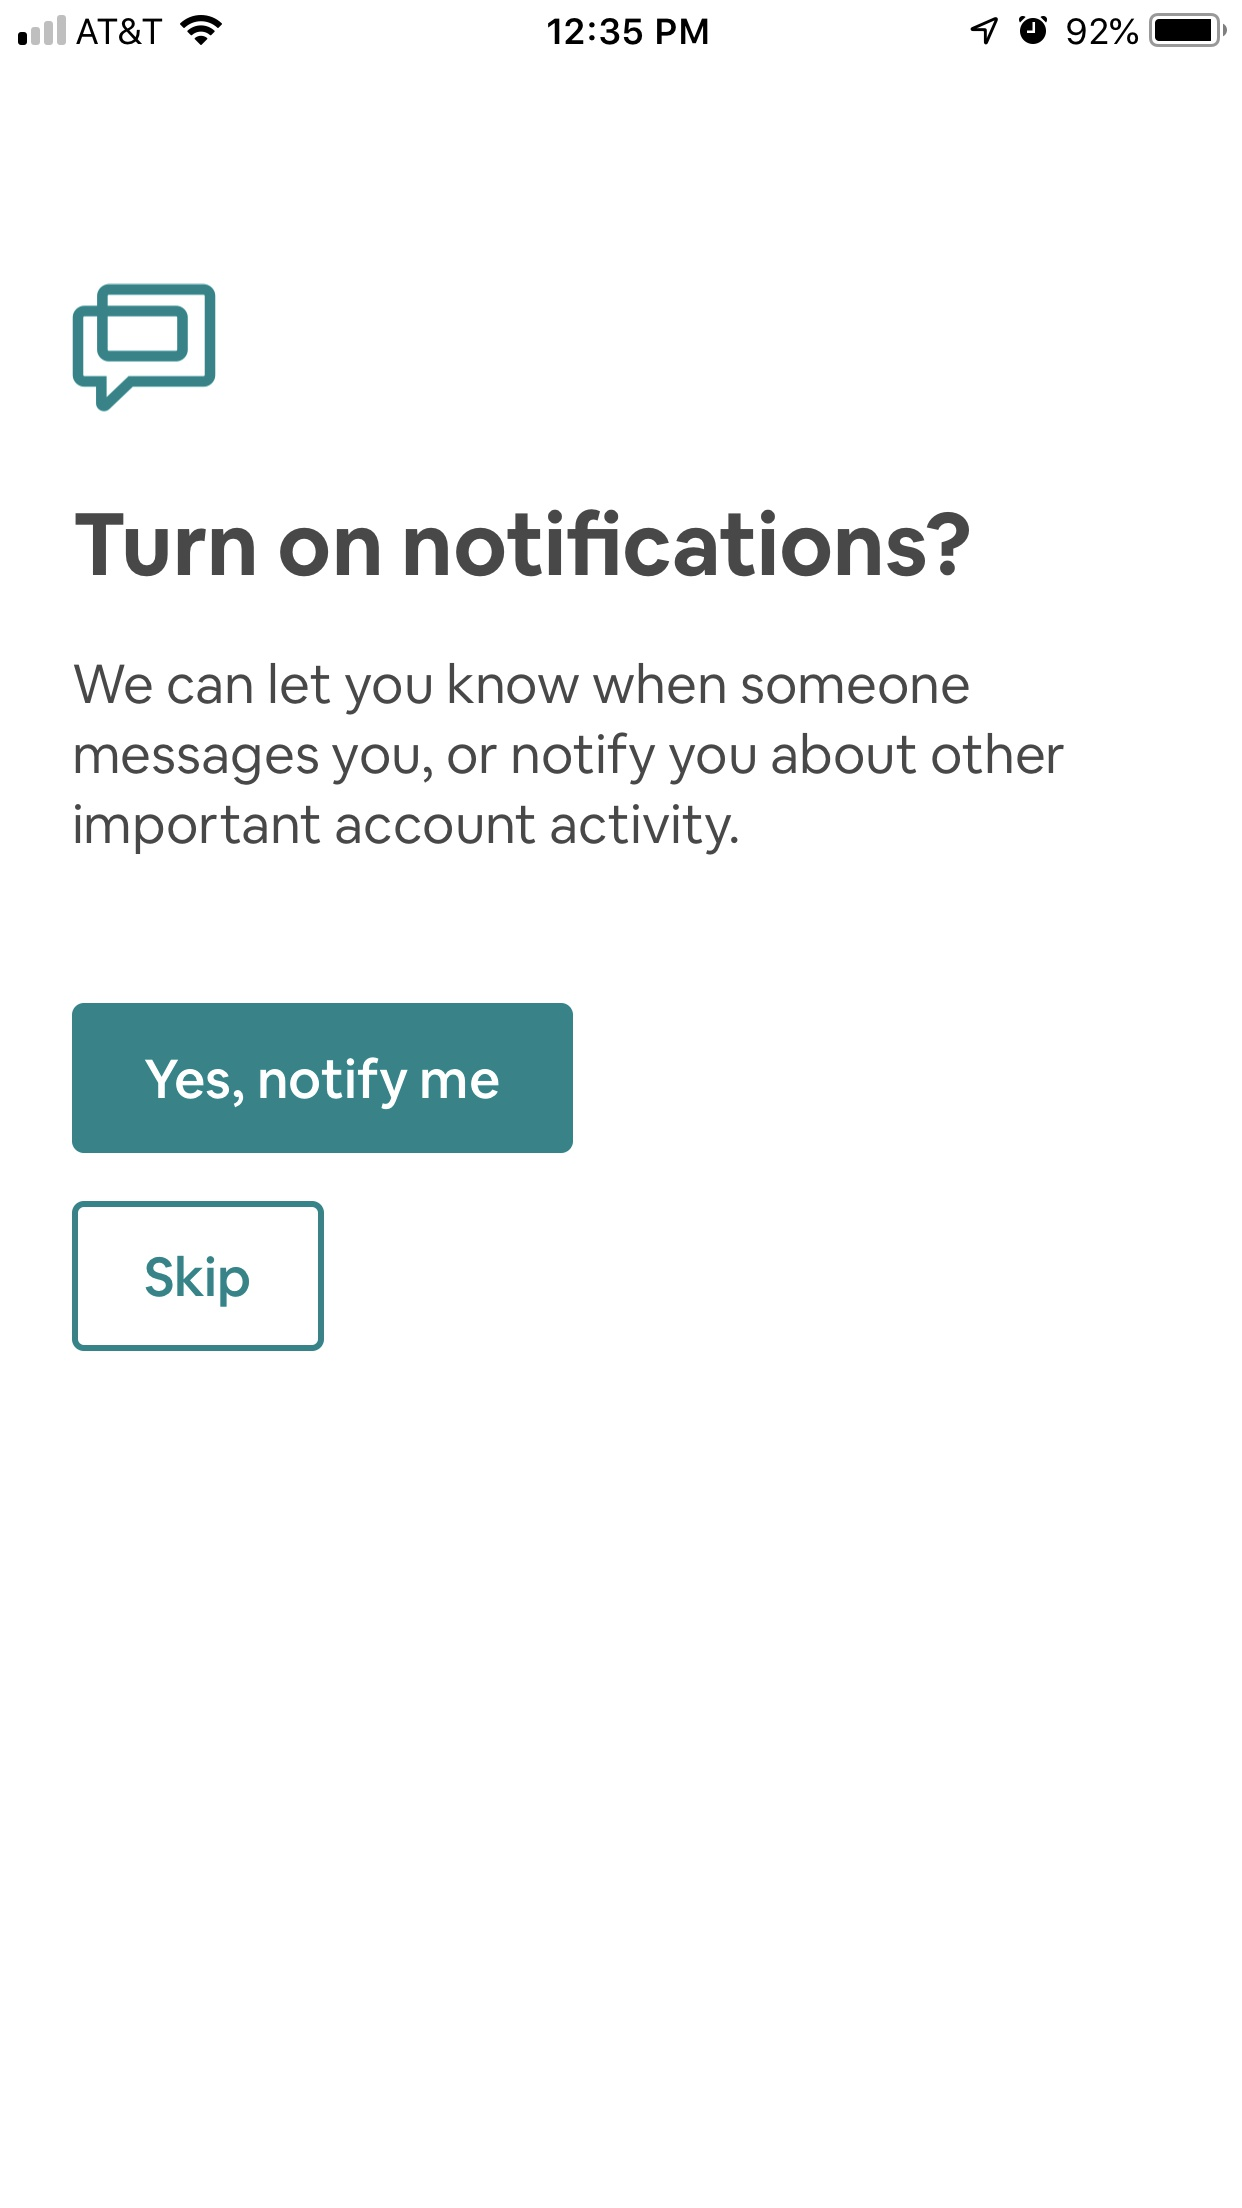Icon: (71, 284, 217, 412)
Text: (74, 664, 1065, 855), (74, 508, 971, 578)
TextButton: (71, 1002, 575, 1154), (71, 1200, 325, 1353)
UpperTaskBar: (2, 2, 1242, 49)
